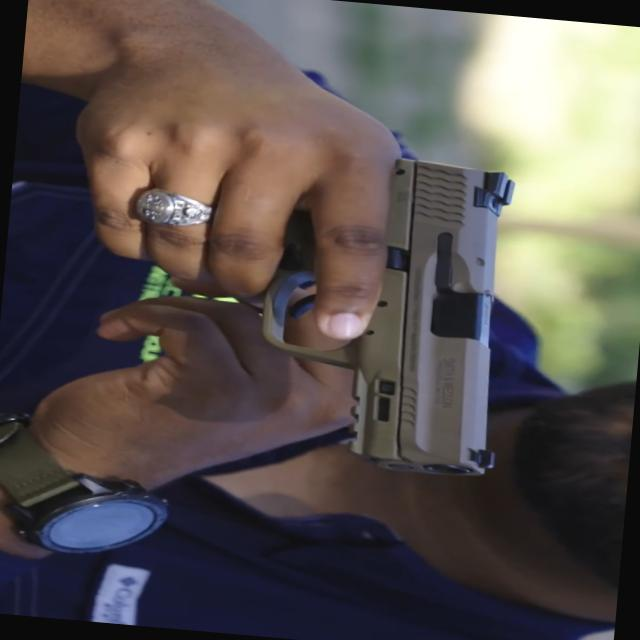handgun: (169, 119, 590, 496)
